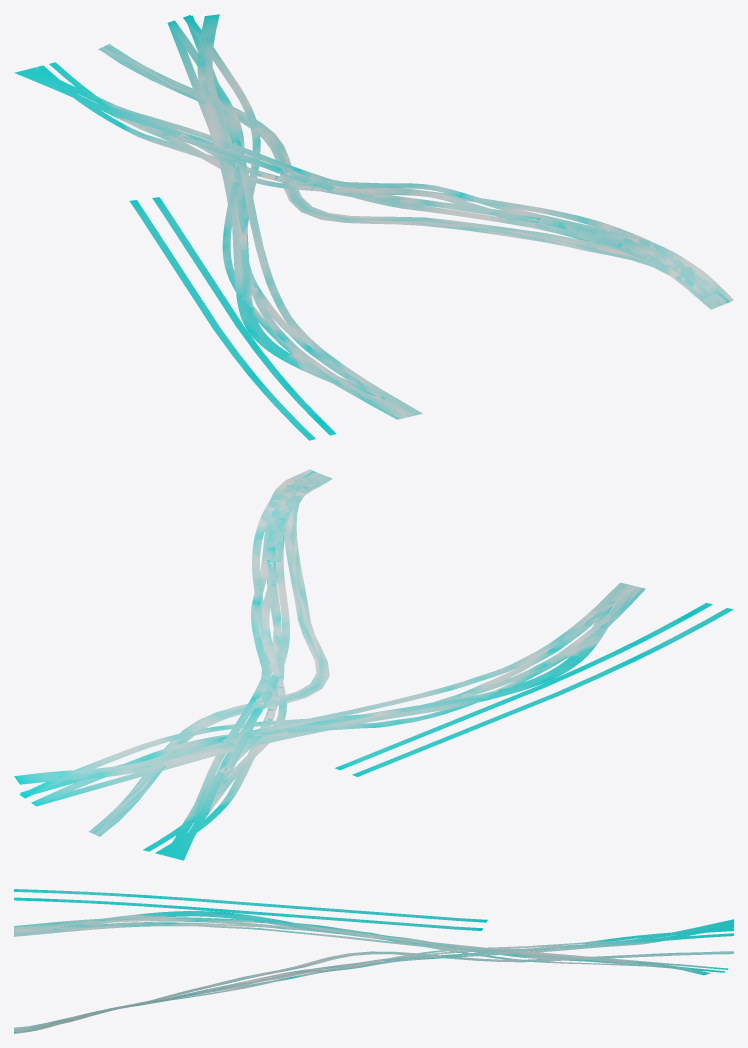
Rendered from cell_157_114.fbx.
3 views of the same model, one above another, from view 1: azimuth 30°, elevation 25°; view 2: azimuth 150°, elevation 25°; view 3: azimuth 270°, elevation 25° (orthographic). The views are drawn at different scales.
Visible parts, largest first — view 1: SpaceCenter_Long3_GenerateRoad_Sand_TireTracks_Narrow_Mesh_., SpaceCenter_Long3_GenerateRoad_Sand_TireTracks_Width_Mesh_x.; view 2: SpaceCenter_Long3_GenerateRoad_Sand_TireTracks_Narrow_Mesh_., SpaceCenter_Long3_GenerateRoad_Sand_TireTracks_Width_Mesh_x.; view 3: SpaceCenter_Long3_GenerateRoad_Sand_TireTracks_Narrow_Mesh_., SpaceCenter_Long3_GenerateRoad_Sand_TireTracks_Width_Mesh_x..
Part boxes in pixels (x1,y1,x2,y2): SpaceCenter_Long3_GenerateRoad_Sand_TireTracks_Narrow_Mesh_.: (14,14,733,440); SpaceCenter_Long3_GenerateRoad_Sand_TireTracks_Width_Mesh_x.: (98,44,721,309); SpaceCenter_Long3_GenerateRoad_Sand_TireTracks_Narrow_Mesh_.: (14,469,733,860); SpaceCenter_Long3_GenerateRoad_Sand_TireTracks_Width_Mesh_x.: (89,474,332,836); SpaceCenter_Long3_GenerateRoad_Sand_TireTracks_Narrow_Mesh_.: (14,889,733,1033); SpaceCenter_Long3_GenerateRoad_Sand_TireTracks_Width_Mesh_x.: (14,951,733,1030).
Bounding box in the file's own units: 37.11 × 4.82 × 64.
